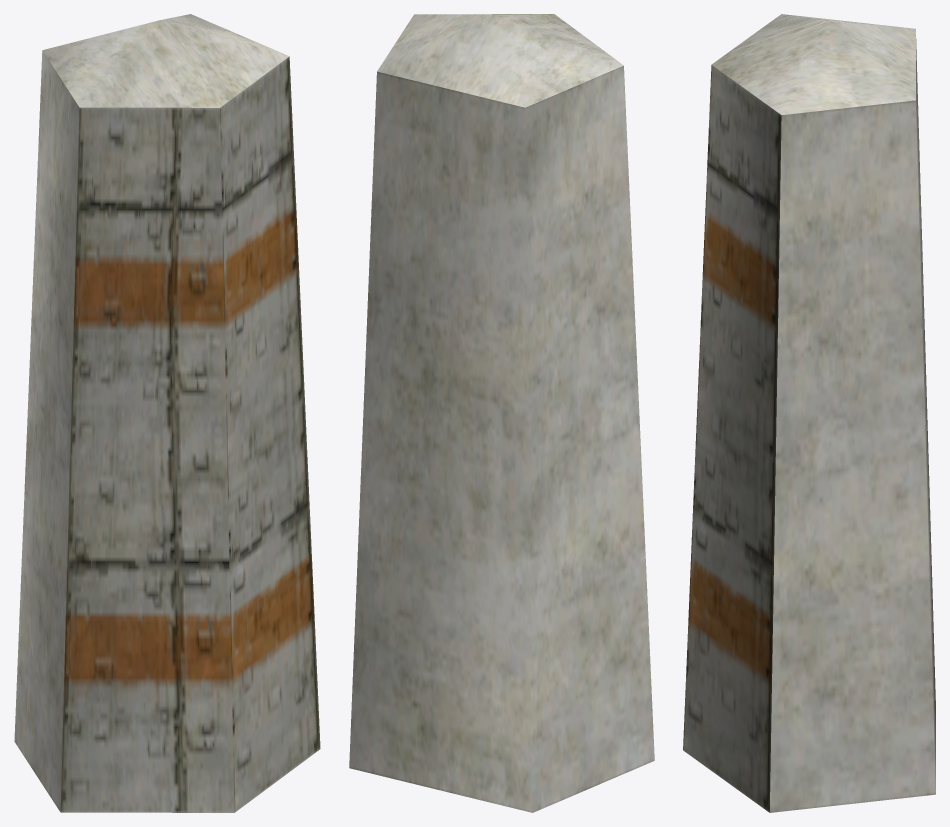
Rendered from mun_all_military_column_strong_rebl_s01_l2.fbx.
The picture shows the model from 3 angles, left to right: view 1: azimuth 30°, elevation 25°; view 2: azimuth 150°, elevation 25°; view 3: azimuth 270°, elevation 25°; orthographic projection.
Parts seen in each view (by area): view 1: mesh_node; view 2: mesh_node; view 3: mesh_node.
Part boxes in pixels (x1,y1,x2,y2): mesh_node: (14, 14, 320, 812); mesh_node: (349, 14, 654, 812); mesh_node: (683, 14, 935, 812).
Bounding box in the file's own units: 2.73 × 7.4 × 2.33.
1 material, 1 textured.
